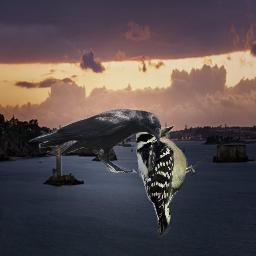Crow: (29, 108, 162, 173)
Woodpecker: (134, 123, 204, 238)
